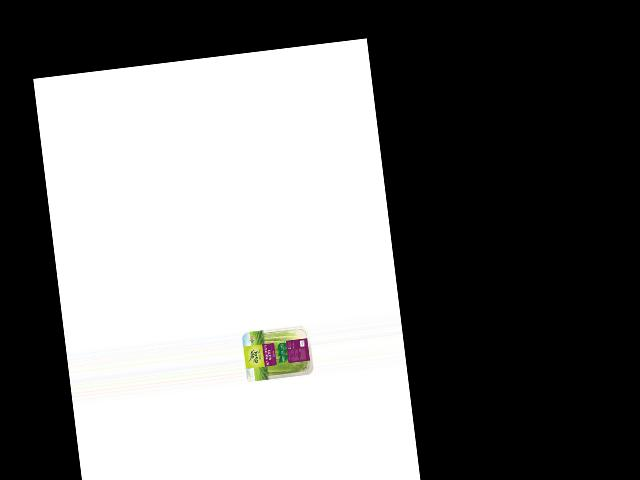lettuce: (246, 323, 314, 381)
